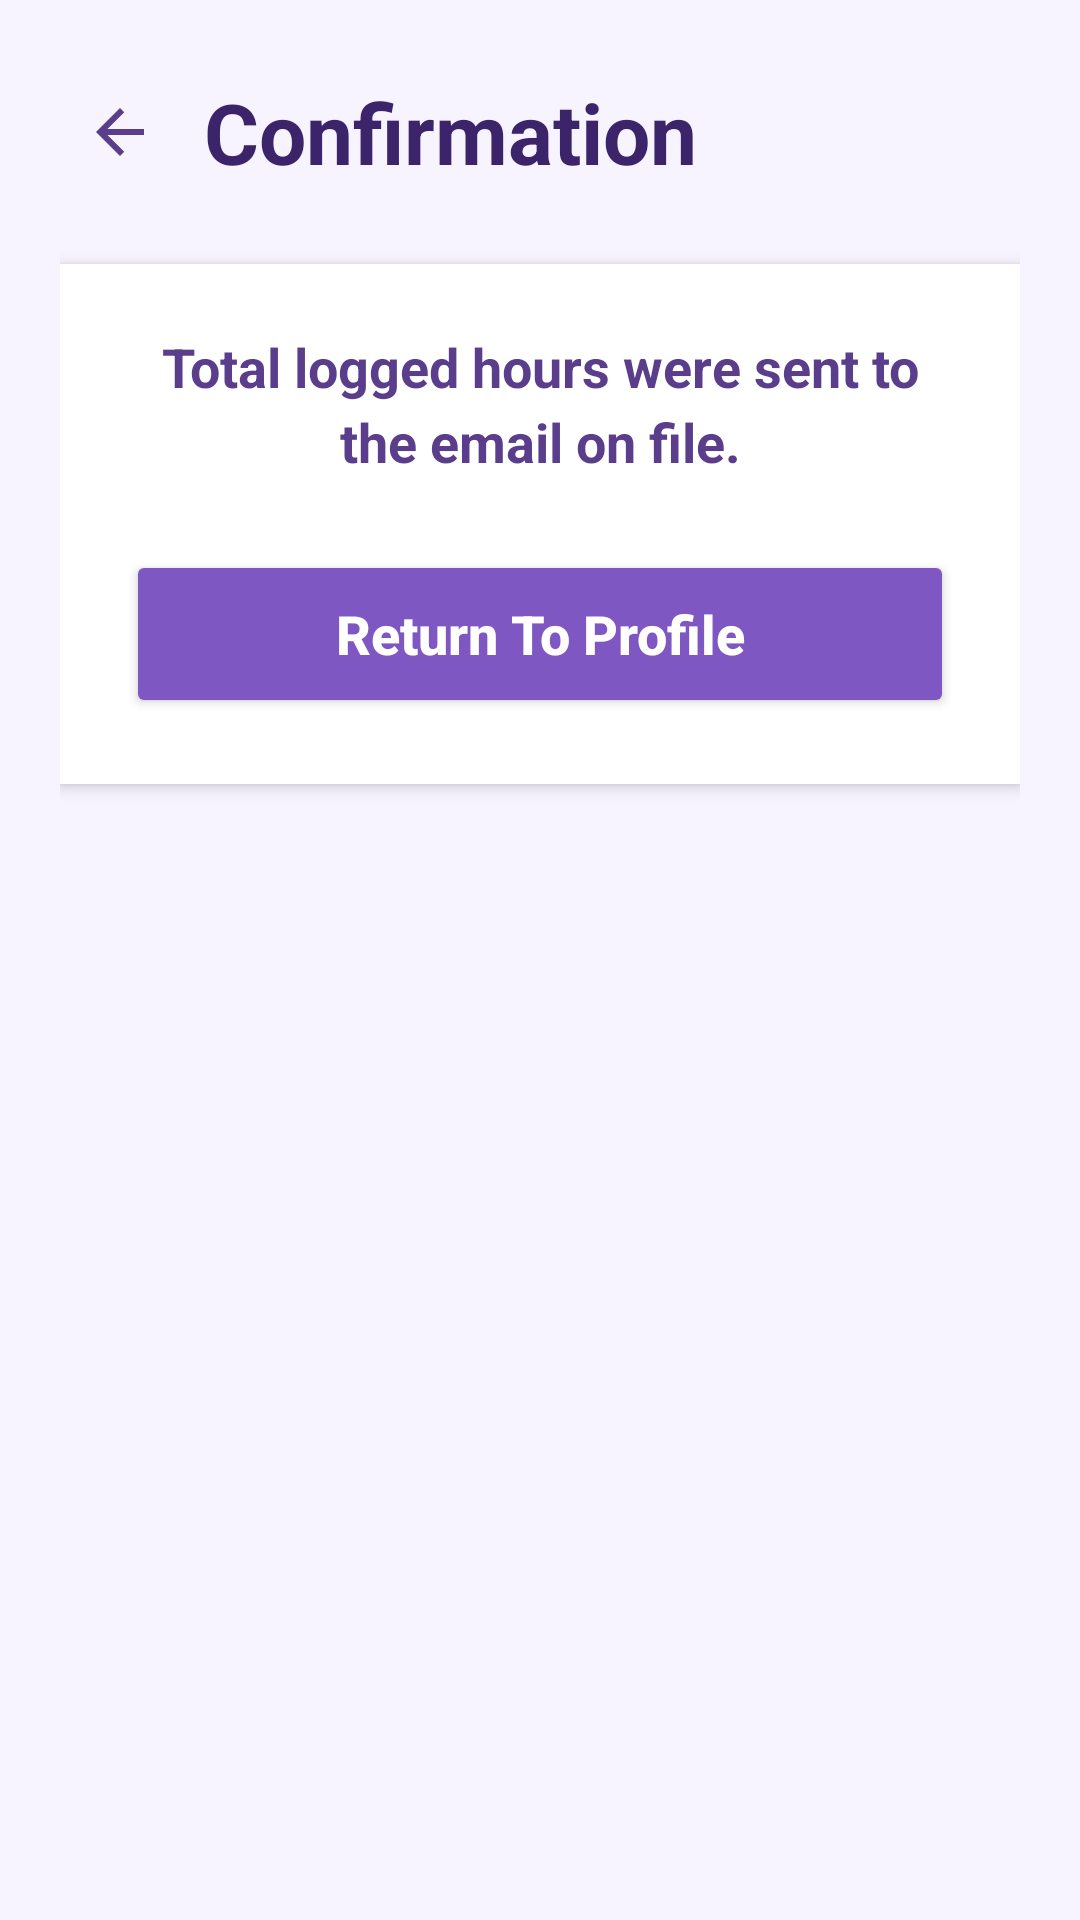

Screen size 1080 × 1920. Icon name, then its center in pixels as [x,y]:
Back: [120,132]
